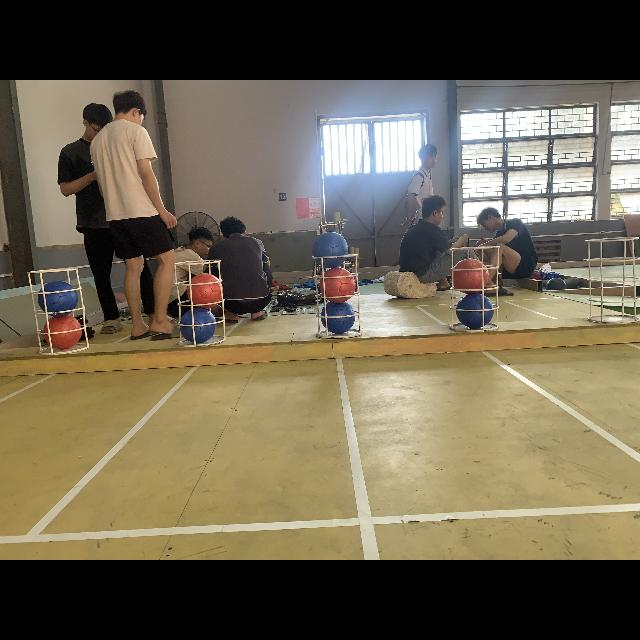B: (180, 307, 217, 345), (37, 282, 77, 316), (457, 294, 493, 328), (312, 232, 348, 266), (322, 301, 354, 335)
R: (186, 274, 224, 310), (44, 315, 82, 349), (452, 259, 490, 293), (320, 268, 354, 302)
